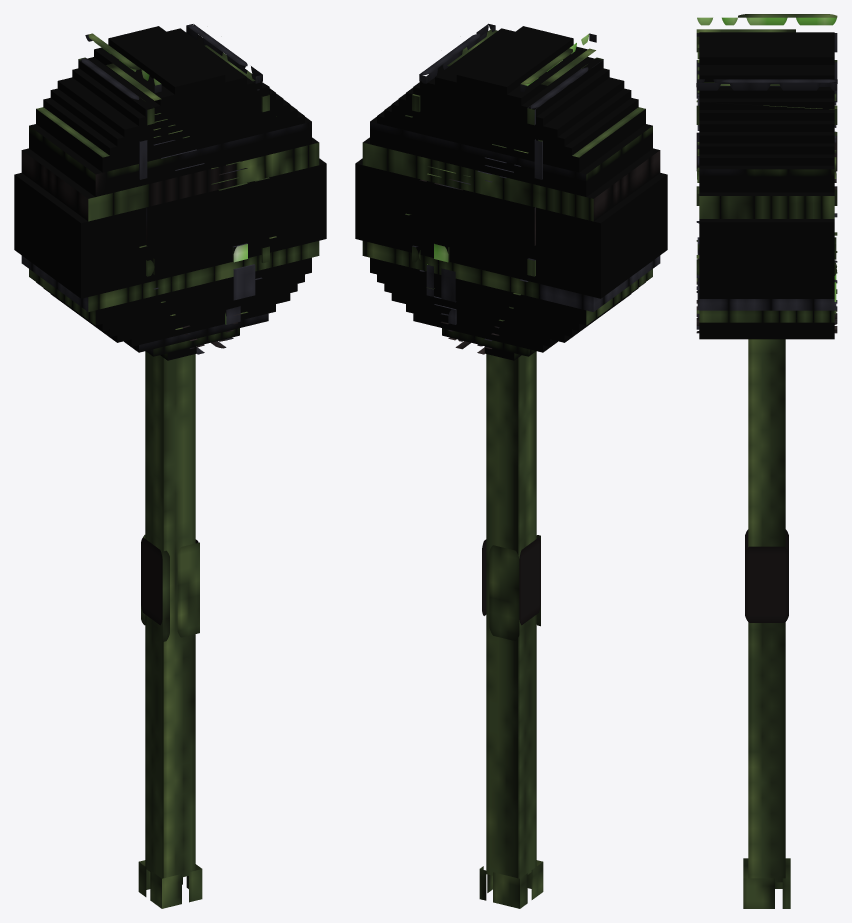
The model's file is broodcaller.obj.
The picture shows the model from 3 angles, left to right: view 1: azimuth 30°, elevation 25°; view 2: azimuth 150°, elevation 25°; view 3: azimuth 270°, elevation 25°; orthographic projection.
Parts seen in each view (by area): view 1: fire, lit; view 2: fire, lit; view 3: fire, lit.
Boxes of the visible parts, box(x1,y1,x2,y2) form: fire: box(14, 26, 326, 360); lit: box(78, 24, 276, 908); fire: box(355, 26, 667, 360); lit: box(405, 23, 603, 908); fire: box(699, 32, 834, 339); lit: box(696, 14, 837, 908).
Size of the model in its own units: 1.06 by 3.51 by 0.522.
